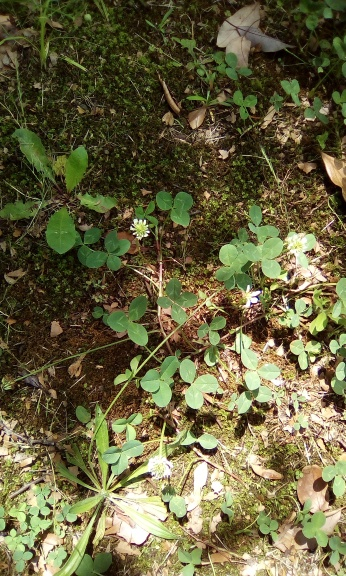4leaf: (157, 278, 197, 324)
